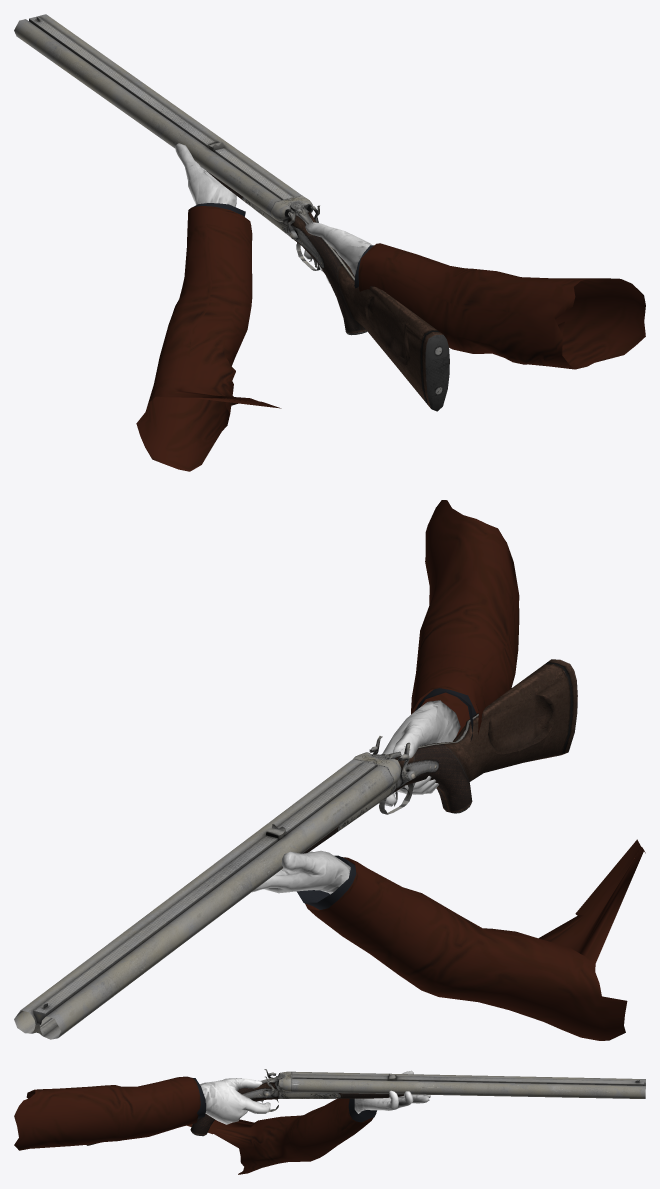
File: frame_27.obj
3 views of the same model, one above another, from view 1: azimuth 30°, elevation 25°; view 2: azimuth 150°, elevation 25°; view 3: azimuth 270°, elevation 25° (orthographic). The views are drawn at different scales.
Parts seen in each view (by area): view 1: PlayerModelMerged.001_PlayerModelMerged, double_-_barreled_shotgun_L_double_-_barreled_shotgun_LP_к.001; view 2: PlayerModelMerged.001_PlayerModelMerged, double_-_barreled_shotgun_L_double_-_barreled_shotgun_LP_к.001; view 3: PlayerModelMerged.001_PlayerModelMerged, double_-_barreled_shotgun_L_double_-_barreled_shotgun_LP_к.001.
Part boxes in pixels (box(x1,y1,x2,y2)): PlayerModelMerged.001_PlayerModelMerged: box(136, 143, 645, 471); double_-_barreled_shotgun_L_double_-_barreled_shotgun_LP_к.001: box(14, 14, 449, 411); PlayerModelMerged.001_PlayerModelMerged: box(252, 500, 645, 1040); double_-_barreled_shotgun_L_double_-_barreled_shotgun_LP_к.001: box(14, 659, 577, 1039); PlayerModelMerged.001_PlayerModelMerged: box(14, 1070, 430, 1174); double_-_barreled_shotgun_L_double_-_barreled_shotgun_LP_к.001: box(86, 1069, 645, 1145).
Bounding box in the file's own units: 0.8331 × 0.5756 × 2.
